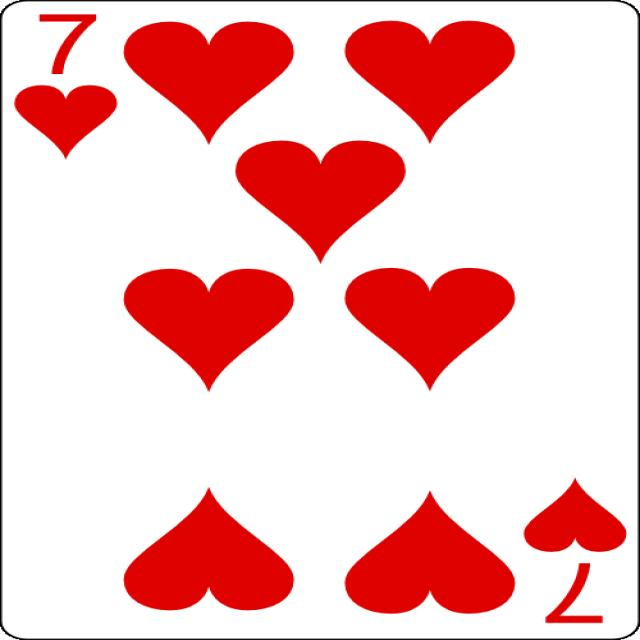Heart: (123, 486, 295, 612), (344, 489, 516, 614), (123, 21, 295, 145), (344, 20, 516, 144), (122, 268, 295, 391), (235, 140, 406, 264), (344, 268, 516, 391), (523, 478, 628, 552), (14, 84, 117, 159)
